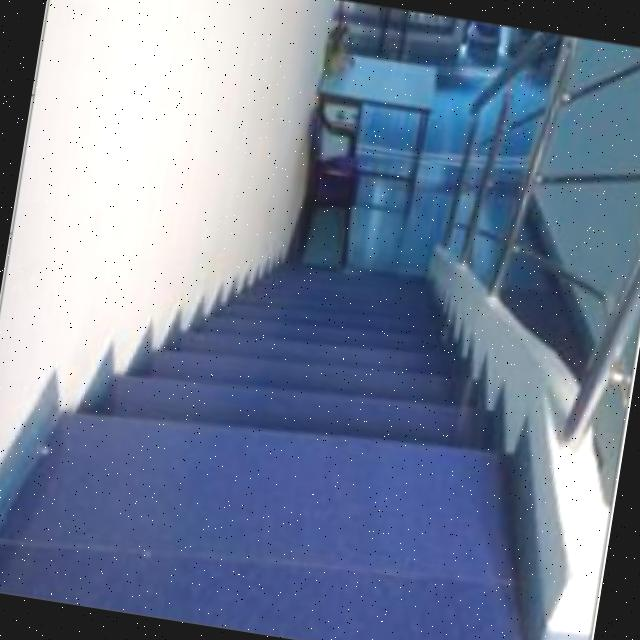stairs: (0, 208, 623, 640)
